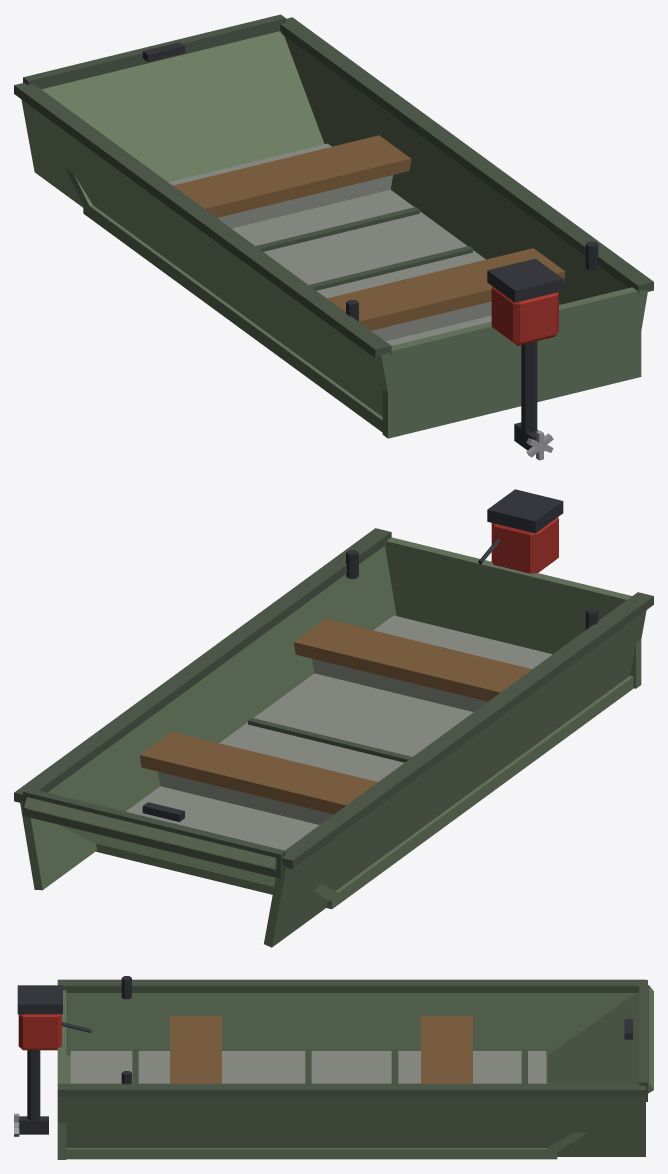
File: JonBoat.glb
3 views of the same model, one above another, from view 1: azimuth 30°, elevation 25°; view 2: azimuth 150°, elevation 25°; view 3: azimuth 270°, elevation 25° (orthographic). The views are drawn at different scales.
Visible parts, largest first — view 1: JonBoat; view 2: JonBoat; view 3: JonBoat.
Part boxes in pixels (x1,y1,x2,y2): JonBoat: (14, 14, 653, 460); JonBoat: (14, 489, 653, 947); JonBoat: (14, 976, 653, 1159).
Bounding box in the file's own units: 6.05 × 3.6 × 14.8.
